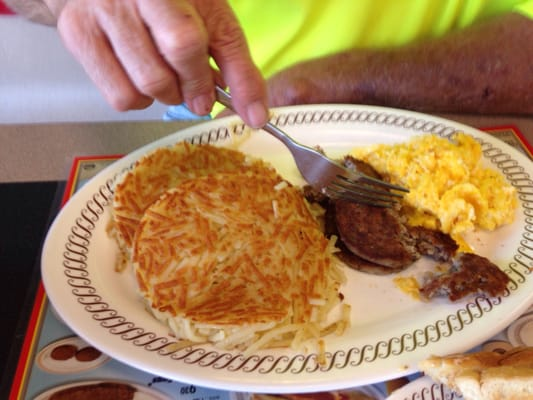burger: (211, 76, 408, 209)
